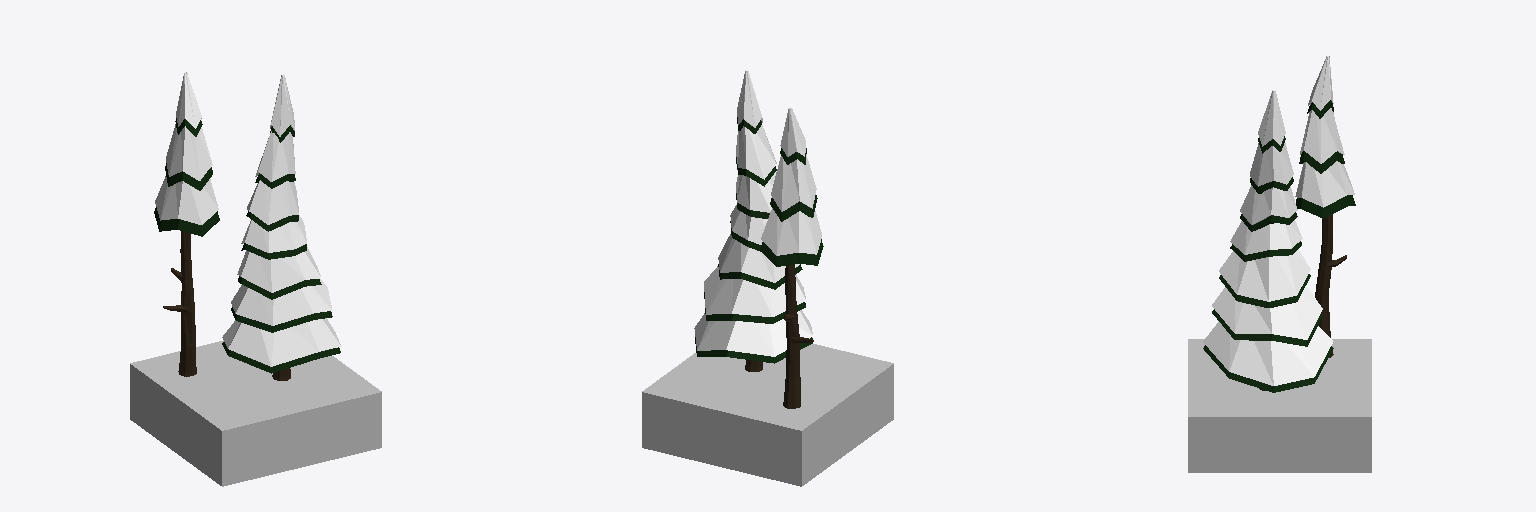
Rendered from Tile_Tree_1.obj.
The picture shows the model from 3 angles: view 1: azimuth 30°, elevation 25°; view 2: azimuth 150°, elevation 25°; view 3: azimuth 270°, elevation 25°; orthographic projection.
Visible parts, largest first — view 1: Cube, Cylinder.000_Cylinder.004, Cylinder.003_Cylinder.002, Cylinder.001_Cylinder.000, Cylinder.004_Cylinder.003, Cylinder.002_Cylinder.001; view 2: Cube, Cylinder.000_Cylinder.004, Cylinder.003_Cylinder.002, Cylinder.001_Cylinder.000, Cylinder.004_Cylinder.003, Cylinder.002_Cylinder.001; view 3: Cube, Cylinder.000_Cylinder.004, Cylinder.003_Cylinder.002, Cylinder.001_Cylinder.000, Cylinder.004_Cylinder.003, Cylinder.002_Cylinder.001.
Boxes of the visible parts, x1=… form: Cube: x1=130, y1=340, x2=381, y2=486; Cylinder.000_Cylinder.004: x1=222, y1=74, x2=341, y2=366; Cylinder.003_Cylinder.002: x1=155, y1=72, x2=218, y2=224; Cylinder.001_Cylinder.000: x1=222, y1=125, x2=340, y2=373; Cylinder.004_Cylinder.003: x1=163, y1=231, x2=196, y2=376; Cylinder.002_Cylinder.001: x1=154, y1=118, x2=219, y2=236; Cube: x1=642, y1=344, x2=893, y2=486; Cylinder.000_Cylinder.004: x1=694, y1=70, x2=812, y2=356; Cylinder.003_Cylinder.002: x1=761, y1=107, x2=821, y2=255; Cylinder.001_Cylinder.000: x1=695, y1=117, x2=812, y2=363; Cylinder.004_Cylinder.003: x1=783, y1=265, x2=813, y2=408; Cylinder.002_Cylinder.001: x1=760, y1=148, x2=823, y2=266; Cube: x1=1188, y1=339, x2=1371, y2=472; Cylinder.000_Cylinder.004: x1=1203, y1=90, x2=1332, y2=385; Cylinder.003_Cylinder.002: x1=1295, y1=56, x2=1354, y2=207; Cylinder.001_Cylinder.000: x1=1203, y1=136, x2=1333, y2=392; Cylinder.004_Cylinder.003: x1=1315, y1=214, x2=1346, y2=357; Cylinder.002_Cylinder.001: x1=1296, y1=100, x2=1355, y2=218.
Bounding box in the file's own units: 3 × 6.36 × 3.